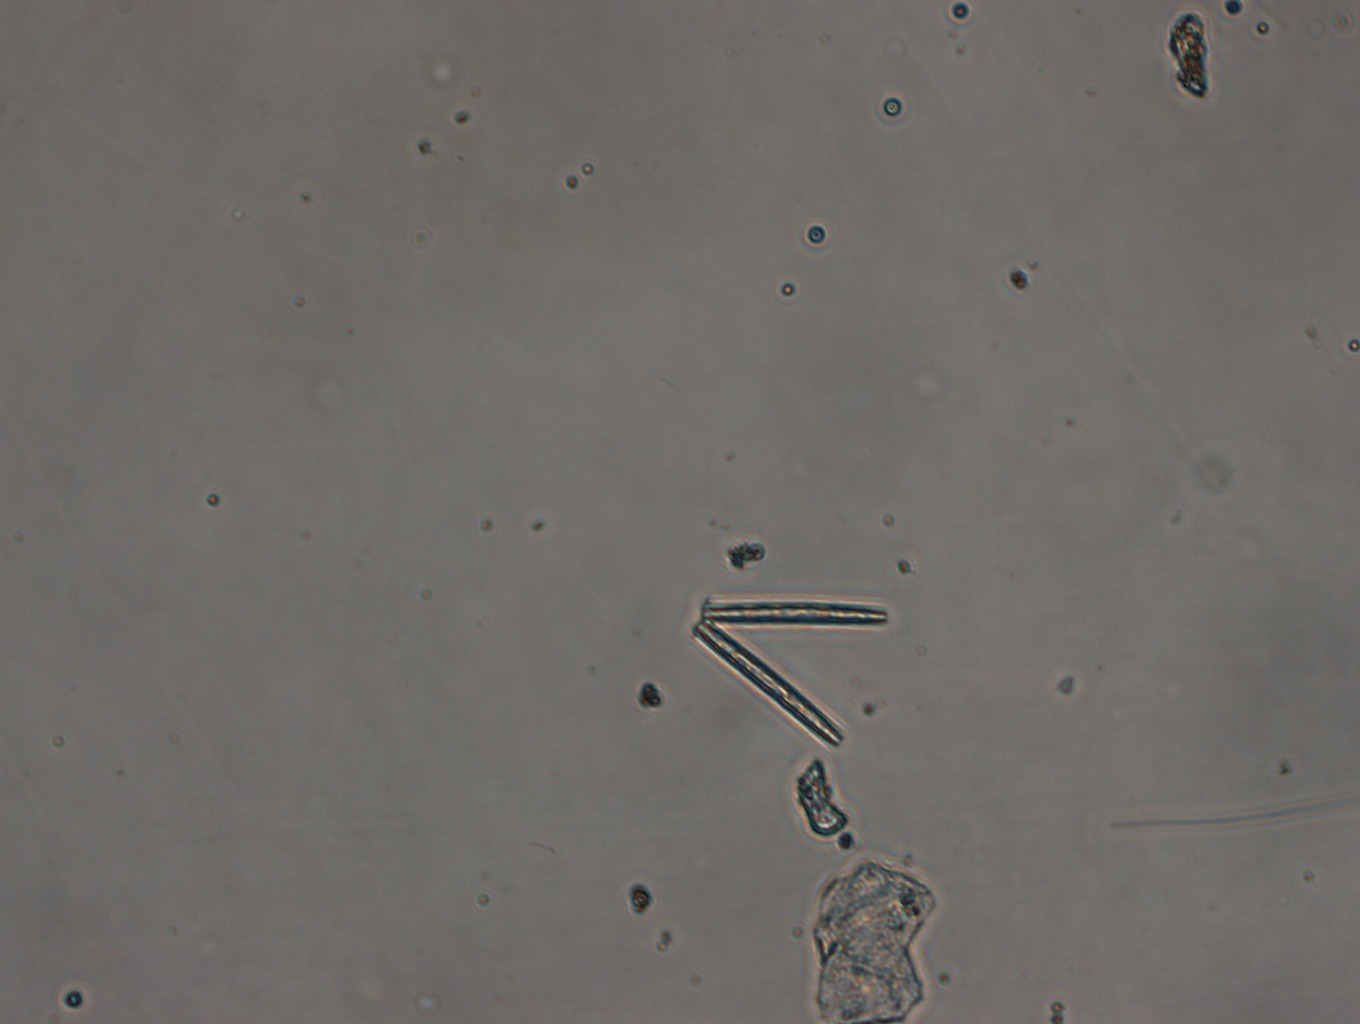thalassionema frauenfeldii: (684, 592, 902, 752)
